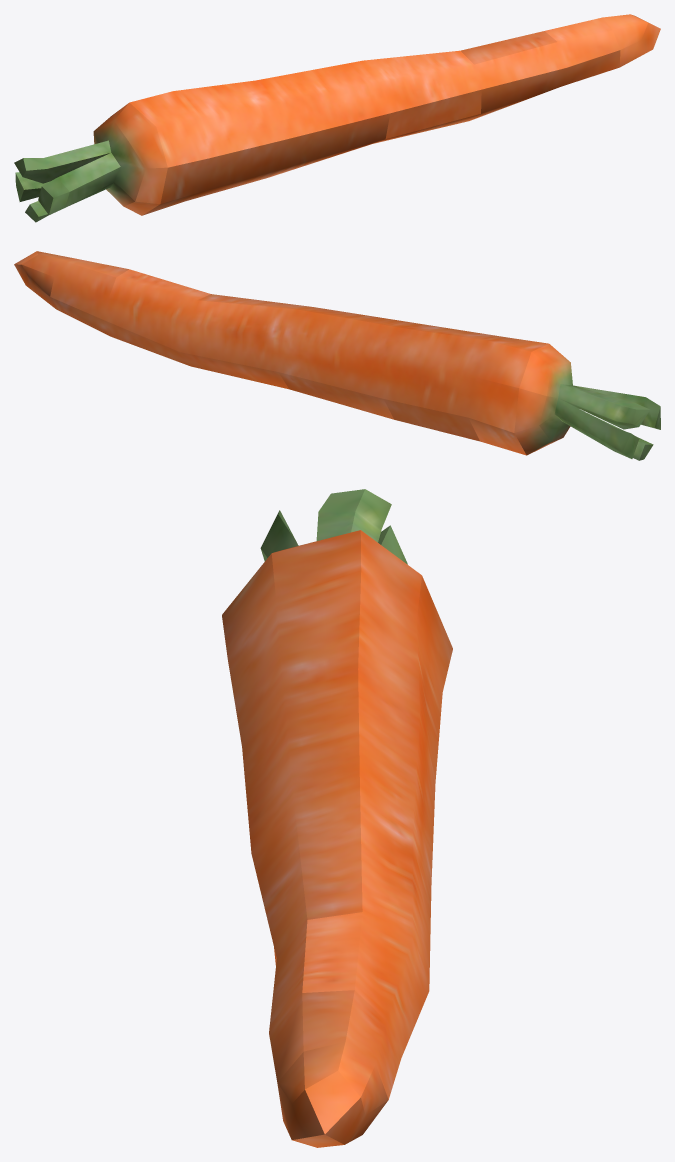
The model's file is CarrotCucumber_carrotsingle.fbx.
3 renders of one model, top to bottom at view 1: azimuth 30°, elevation 25°; view 2: azimuth 150°, elevation 25°; view 3: azimuth 270°, elevation 25°, orthographic. The views are drawn at different scales.
Parts seen in each view (by area): view 1: Carrotsingle; view 2: Carrotsingle; view 3: Carrotsingle.
Boxes of the visible parts, x1=… form: Carrotsingle: x1=14, y1=14, x2=660, y2=222; Carrotsingle: x1=14, y1=251, x2=660, y2=460; Carrotsingle: x1=222, y1=489, x2=452, y2=1147.
Bounding box in the file's own units: 0.4468 × 0.0698 × 0.0707.
